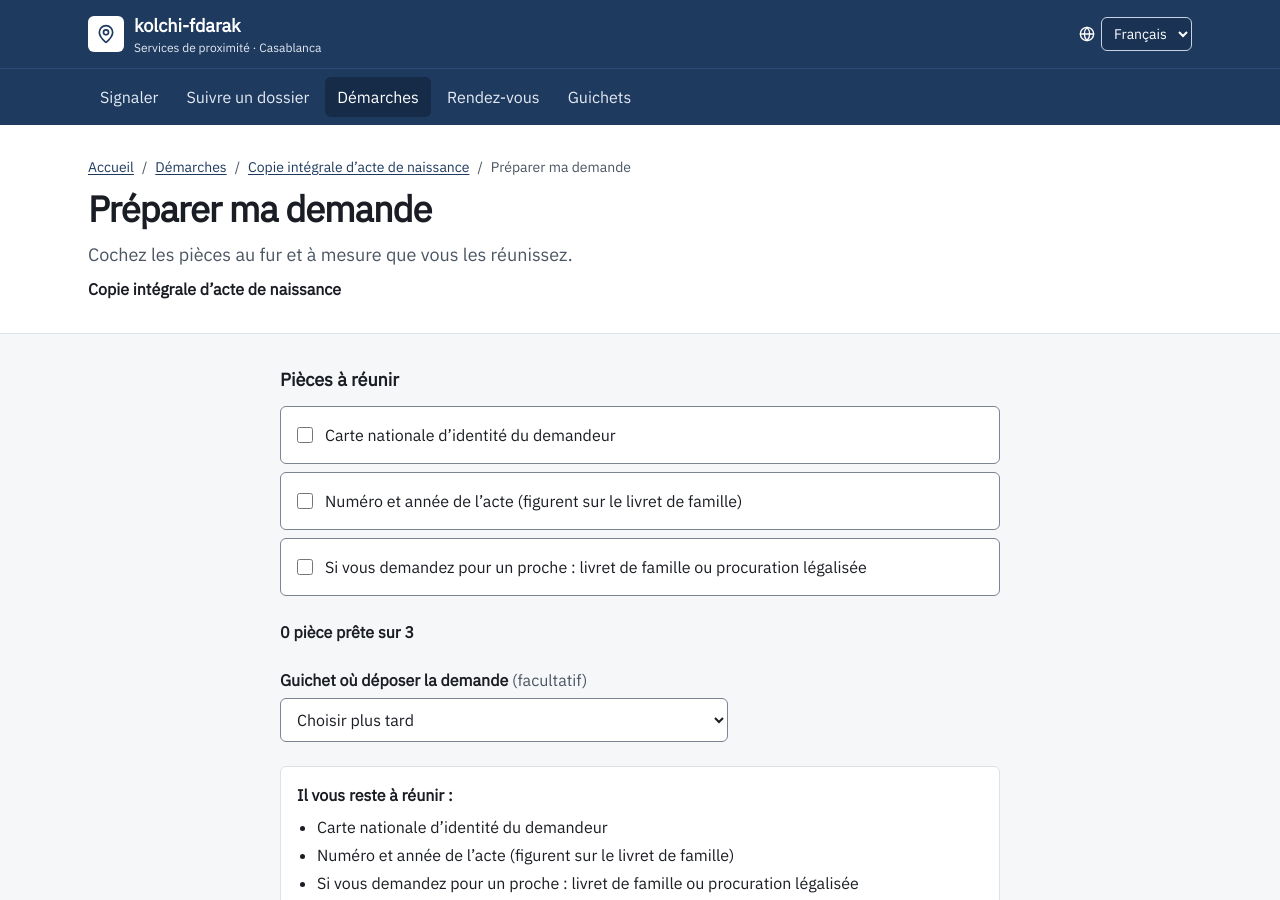
Test: préparer une demande › cocher toutes les pièces affiche le récapitulatif et le lien de rendez-vous
The image size is (1280, 900).
Expected: the message reads "0 pièce prête sur 3", [280,622,414,642]
Expected: the heading "Récapitulatif de la demande" is not shown
Click the checkbox labelled "Carte nationale d’identité du demandeur" at (305, 435), box [297,427,313,443]
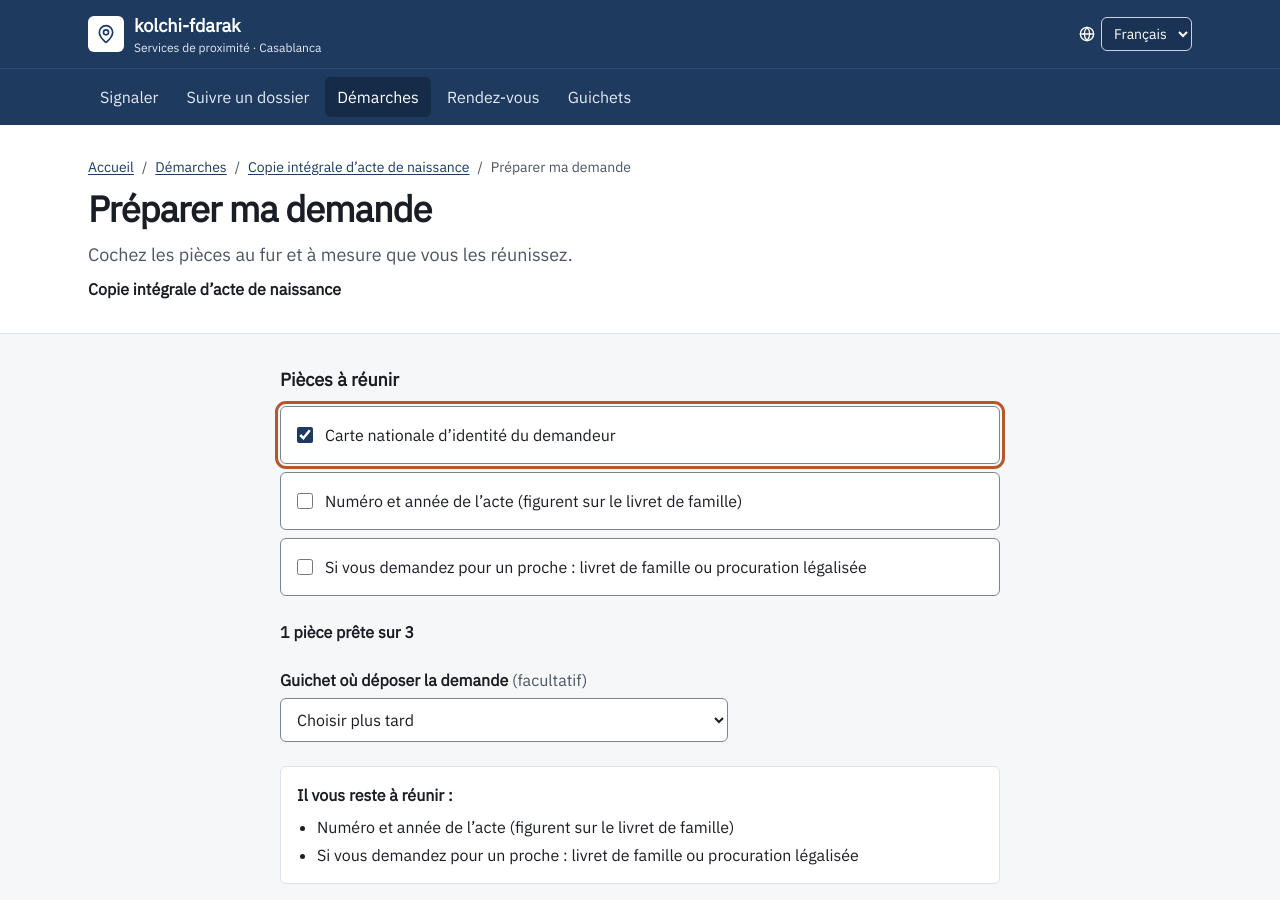
Click the 2nd checkbox at (305, 501), box [297,493,313,509]
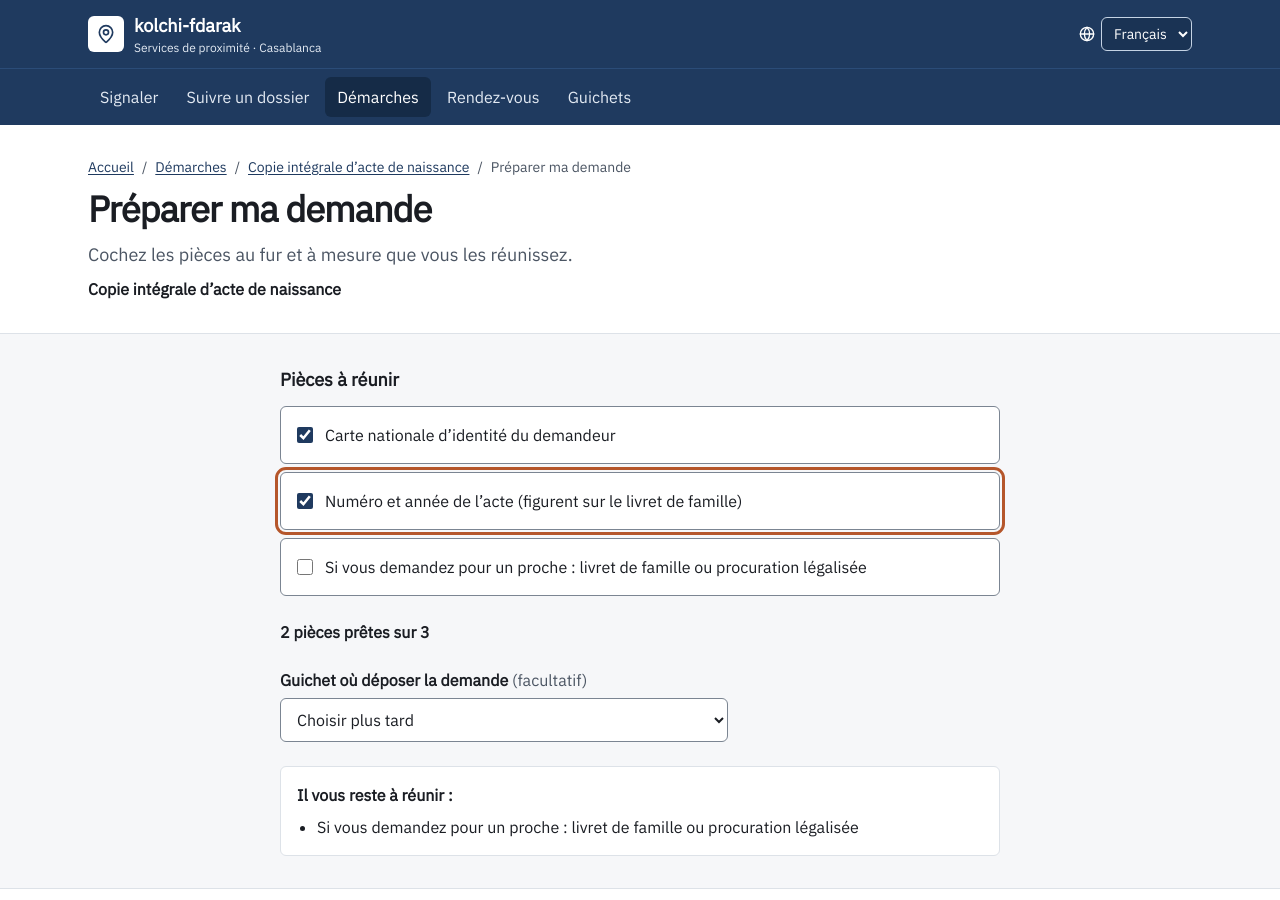
Result: the message reads "2 pièces prêtes sur 3" at [280,622,430,642]
Select "Guichet Maârif" in the dropdown labelled "Guichet où déposer la demande (facultatif)" at (504, 720), box [280,698,728,742]
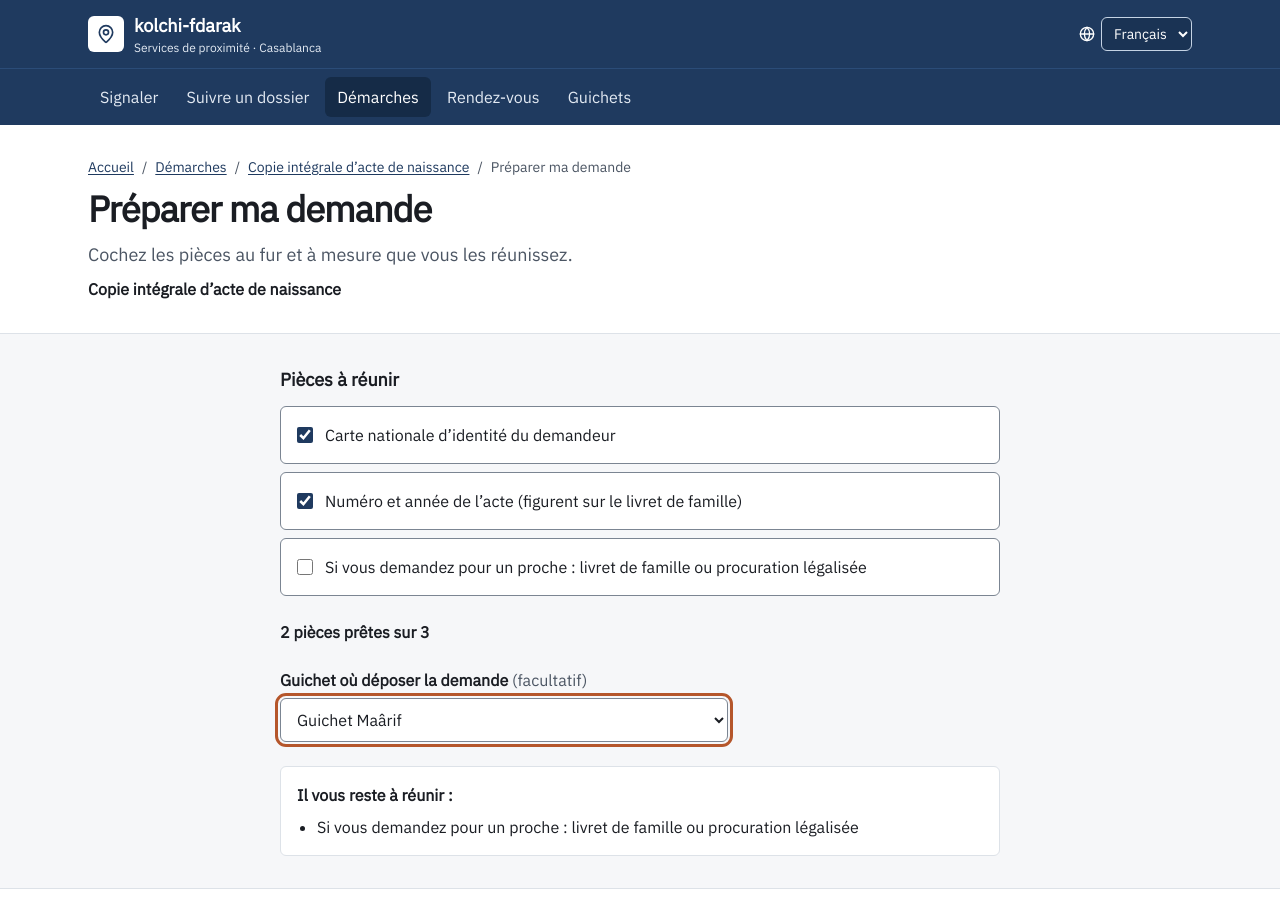
Click the 3rd checkbox at (305, 567), box [297,559,313,575]
(page scrolled)
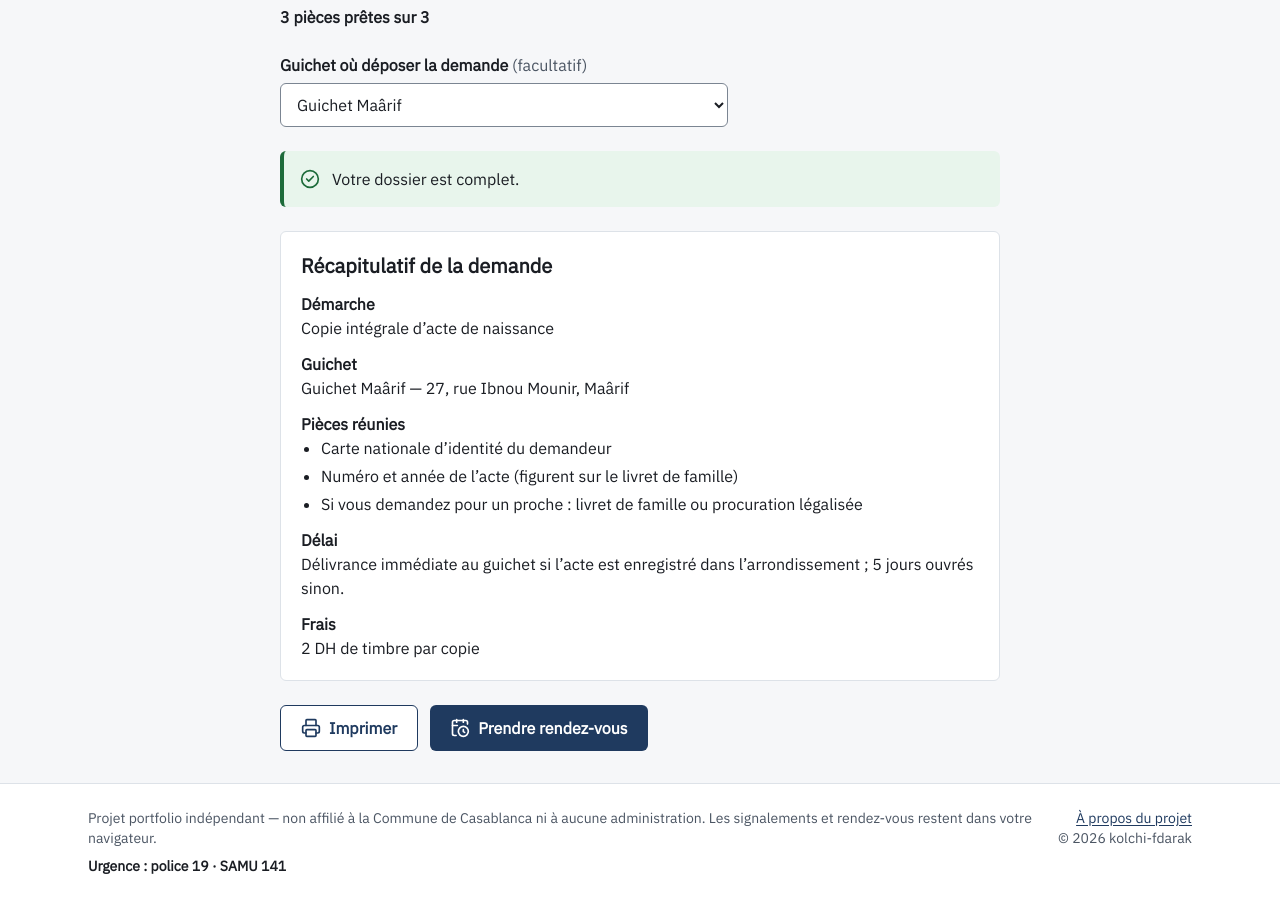
Result: the heading "Récapitulatif de la demande" is shown at [301,252,552,279]
Result: the text "Guichet Maârif — 27, rue Ibnou Mounir, Maârif" is shown at [301,378,629,398]
Result: the button "Imprimer" is shown at [280,705,418,751]
